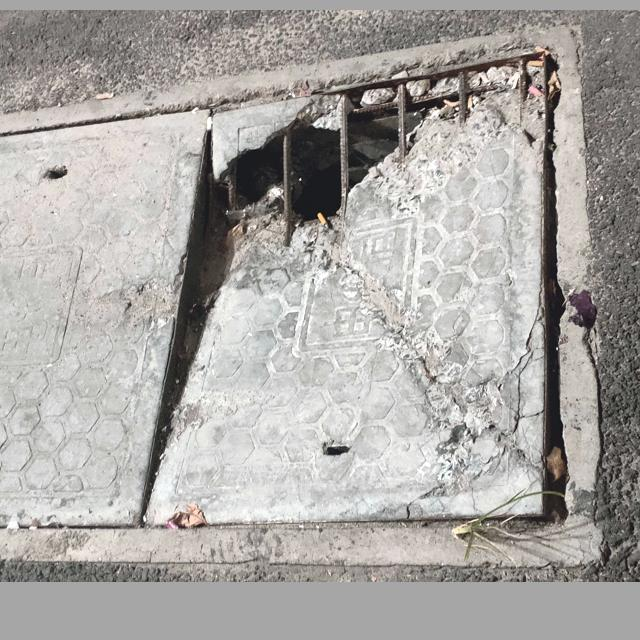broke: (0, 25, 605, 566)
